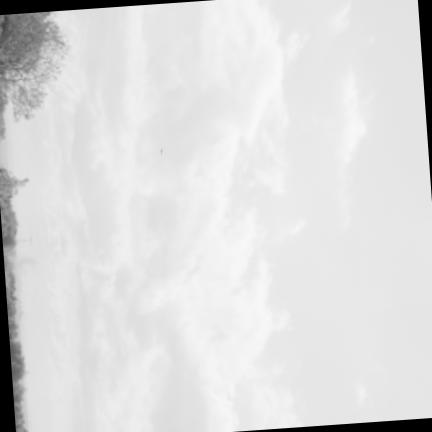Shahed: (159, 148, 162, 156)
